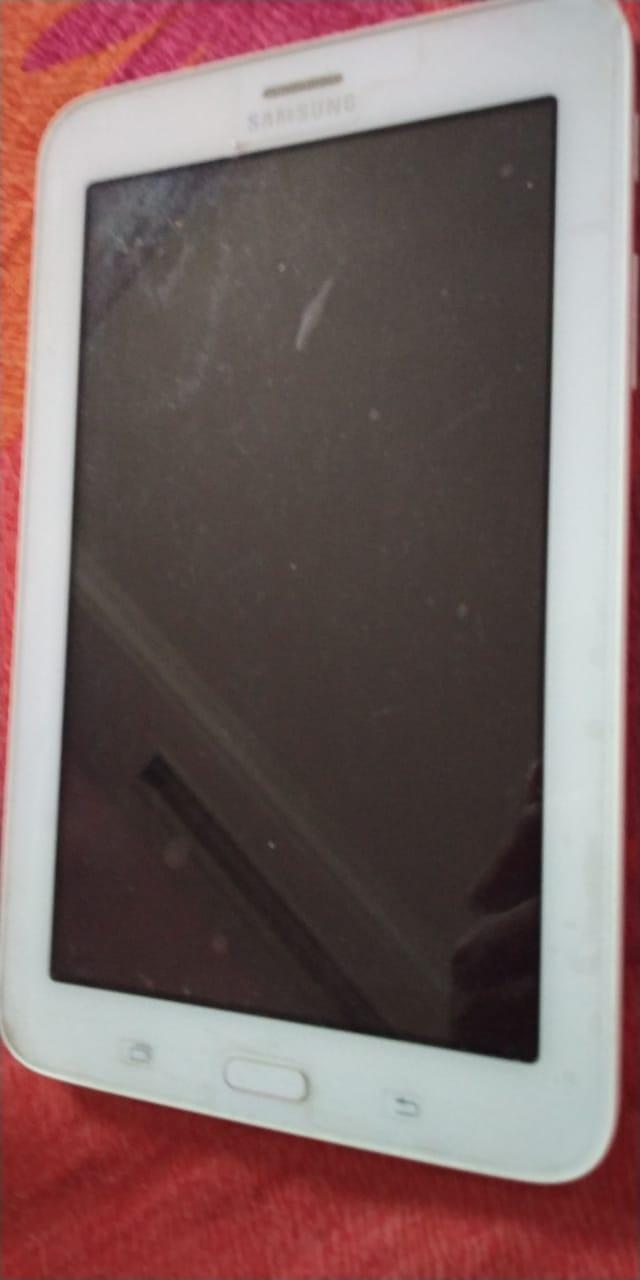Phone: (3, 1, 630, 1204)
